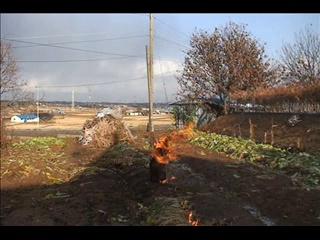fire: (150, 119, 192, 184), (185, 207, 203, 226)
